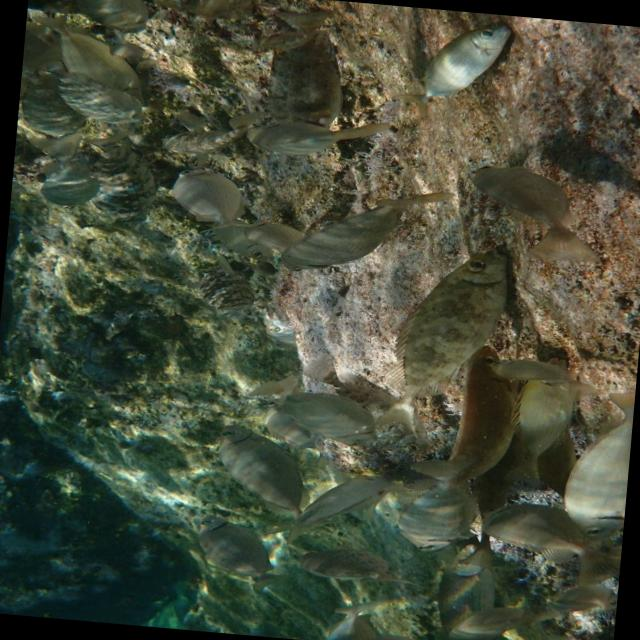Sokar Baligi: (354, 232, 518, 448), (267, 162, 464, 297), (379, 7, 524, 129), (386, 446, 496, 562), (171, 505, 298, 601)
